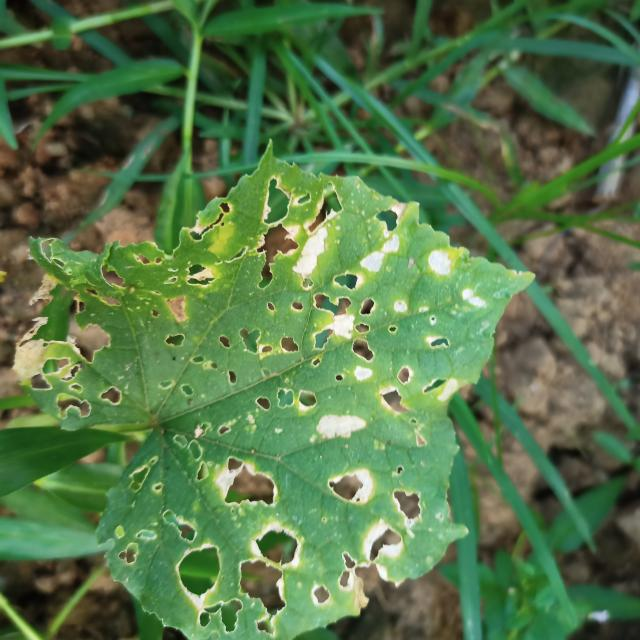disease_cucumber: (53, 190, 482, 628)
